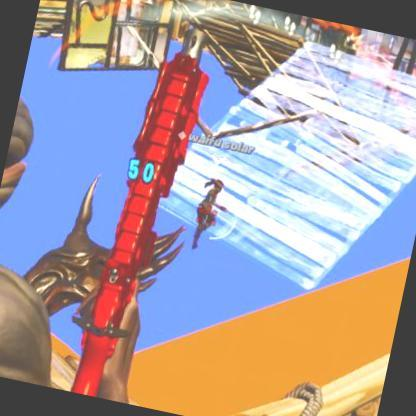person: (184, 176, 228, 258)
